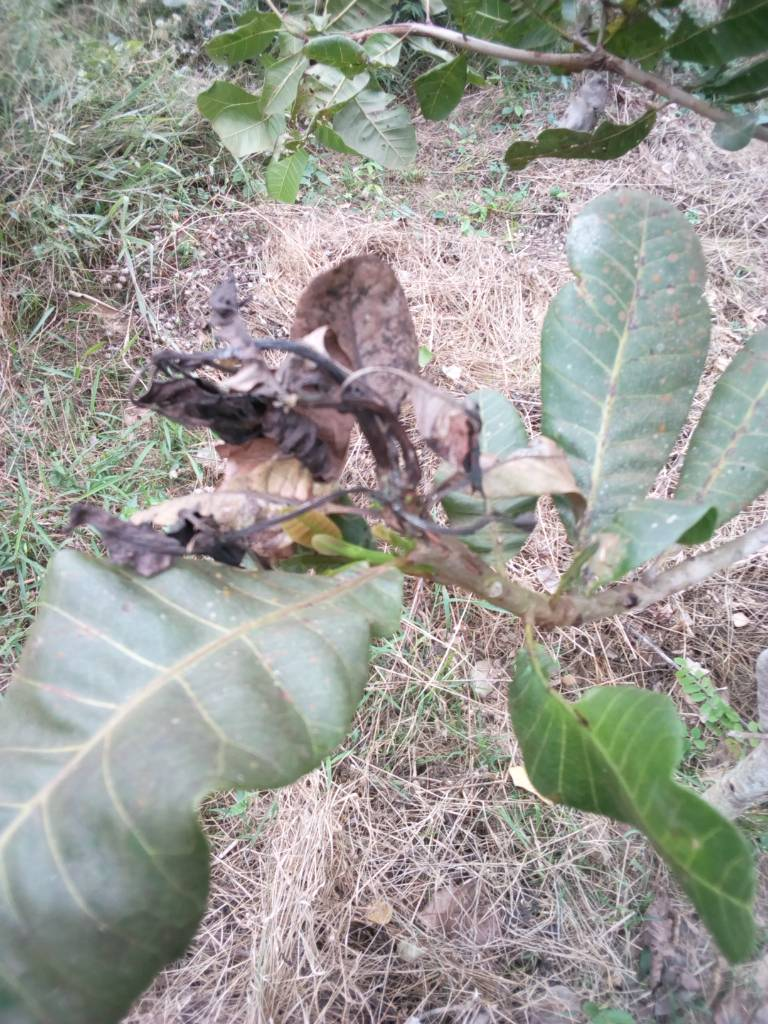Rouille: (520, 162, 717, 518), (661, 325, 761, 580)
